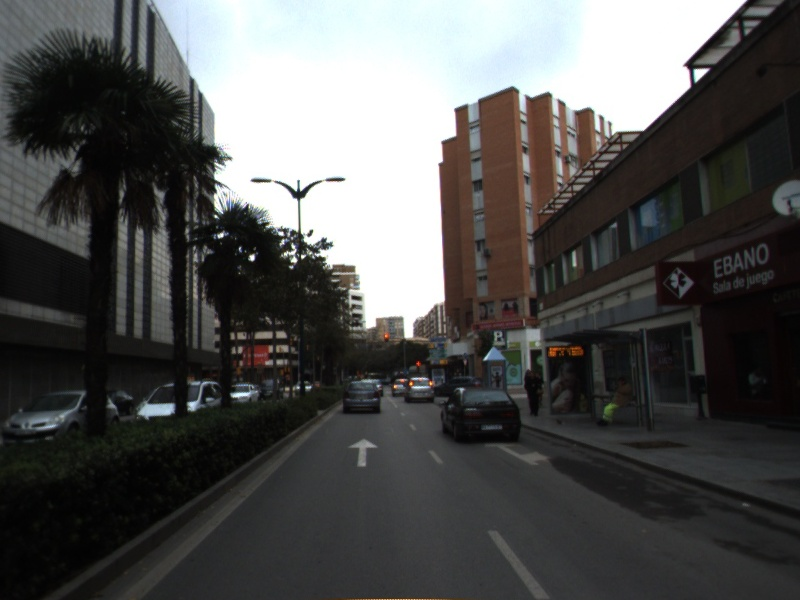STRAIGHT: (346, 437, 380, 469)
STRAIGHT_RIGHT: (483, 442, 552, 467)
